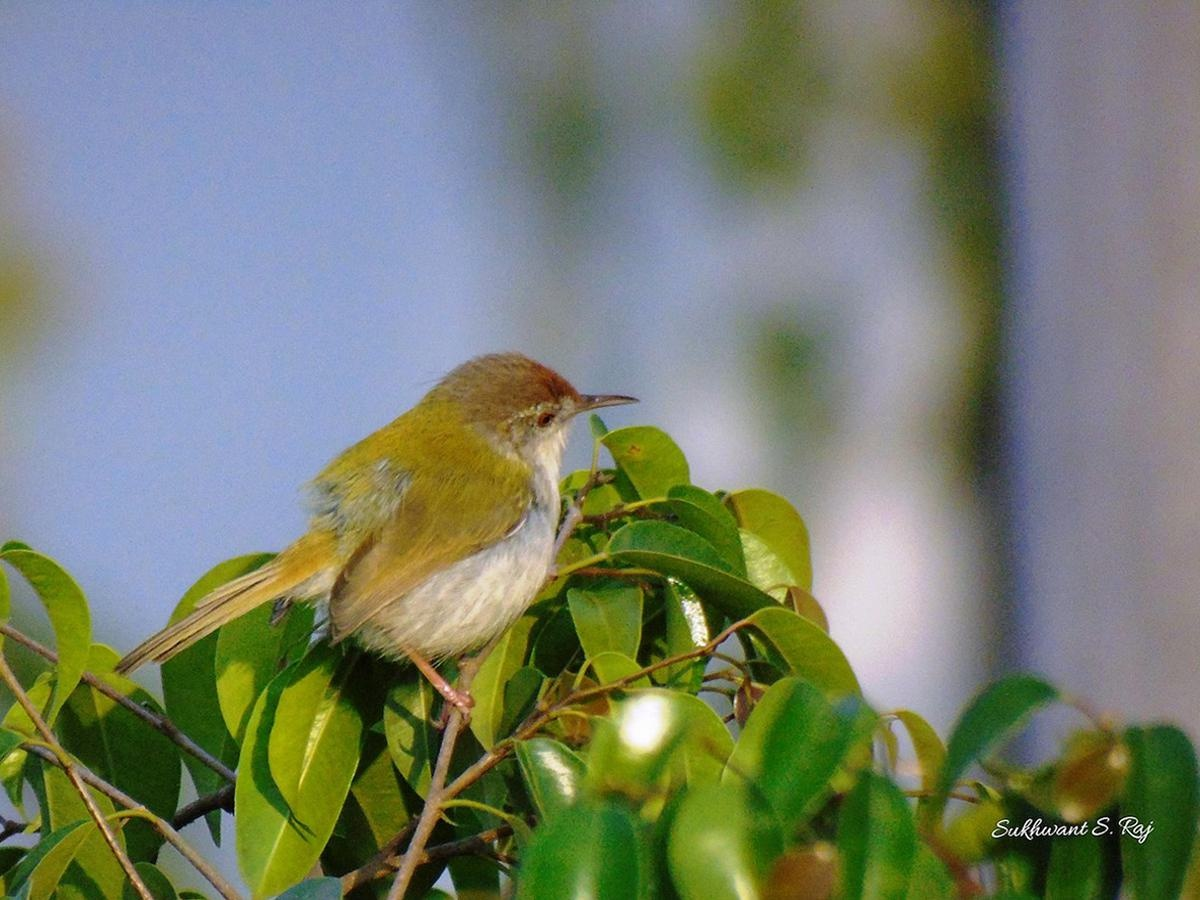tailorbird: (175, 334, 644, 731)
